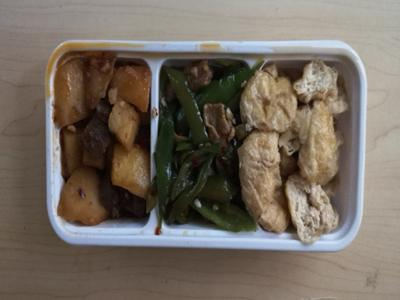cqj: (161, 54, 254, 235)
jrtd: (57, 57, 151, 228)
